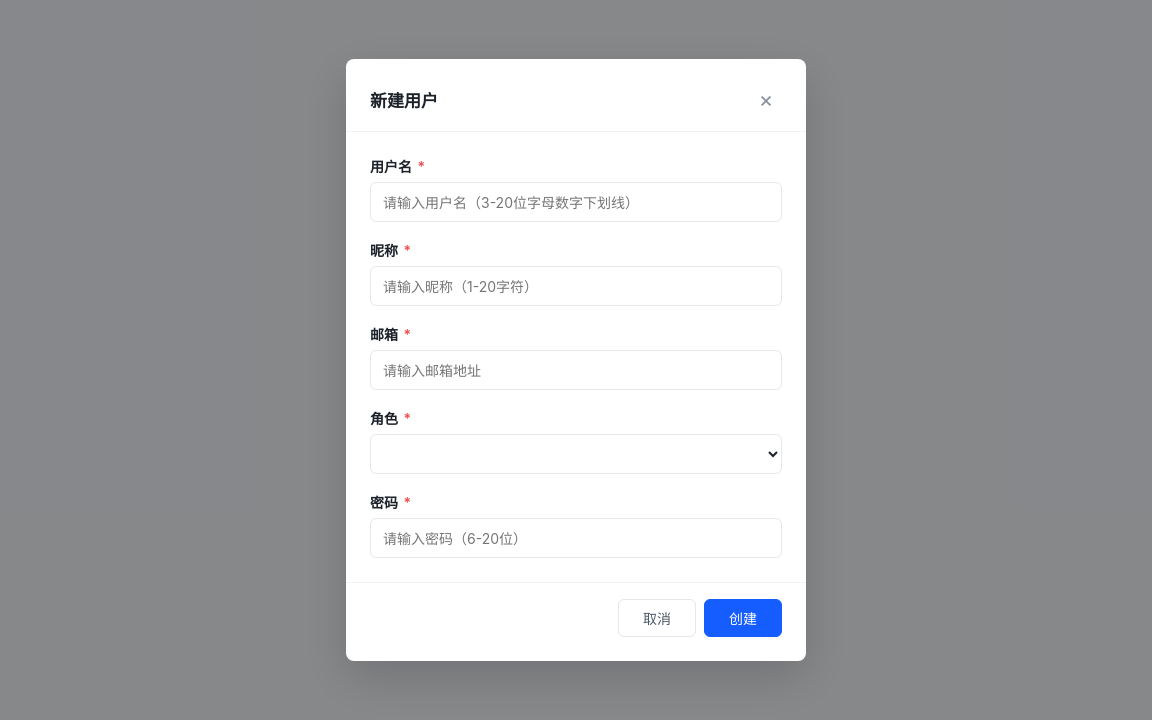
UserFormDialog 组件 › 表单验证 - 用户名 › 用户名为空时显示错误
使 username 保持空，直接提交
Step 1. Click the button with class "btn-submit" → (743, 618), box [704, 599, 782, 637]
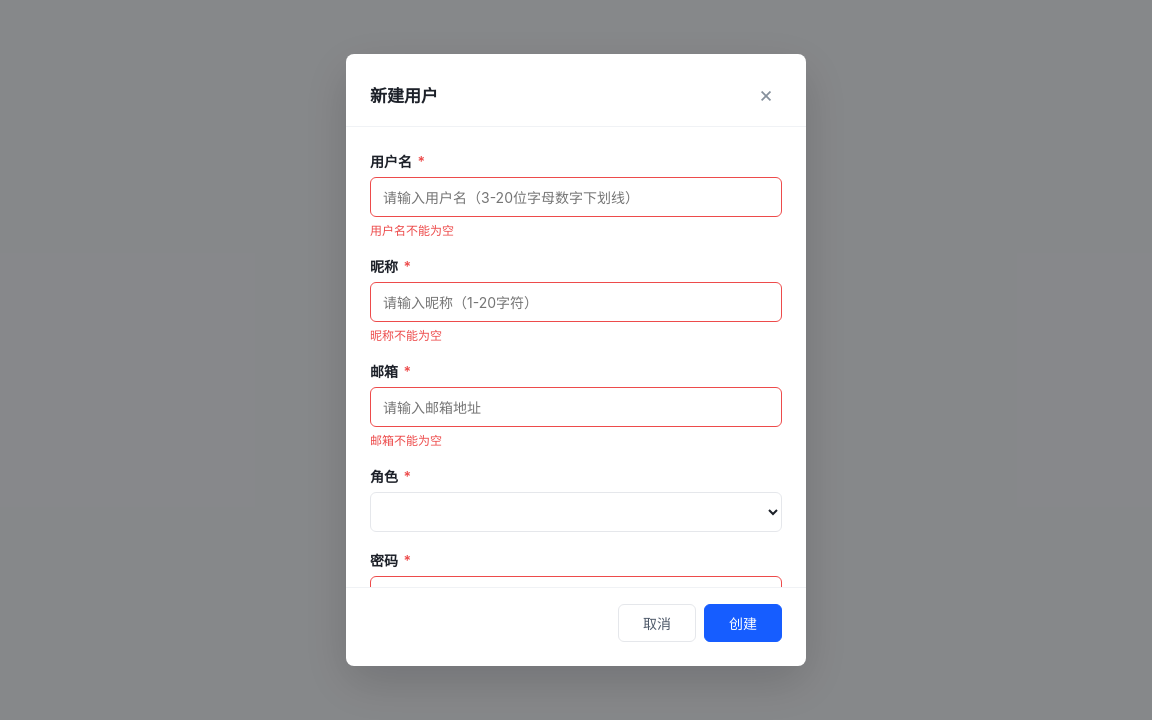
Now the text with class "error-text" reads "用户名不能为空", box [370, 223, 454, 238]
